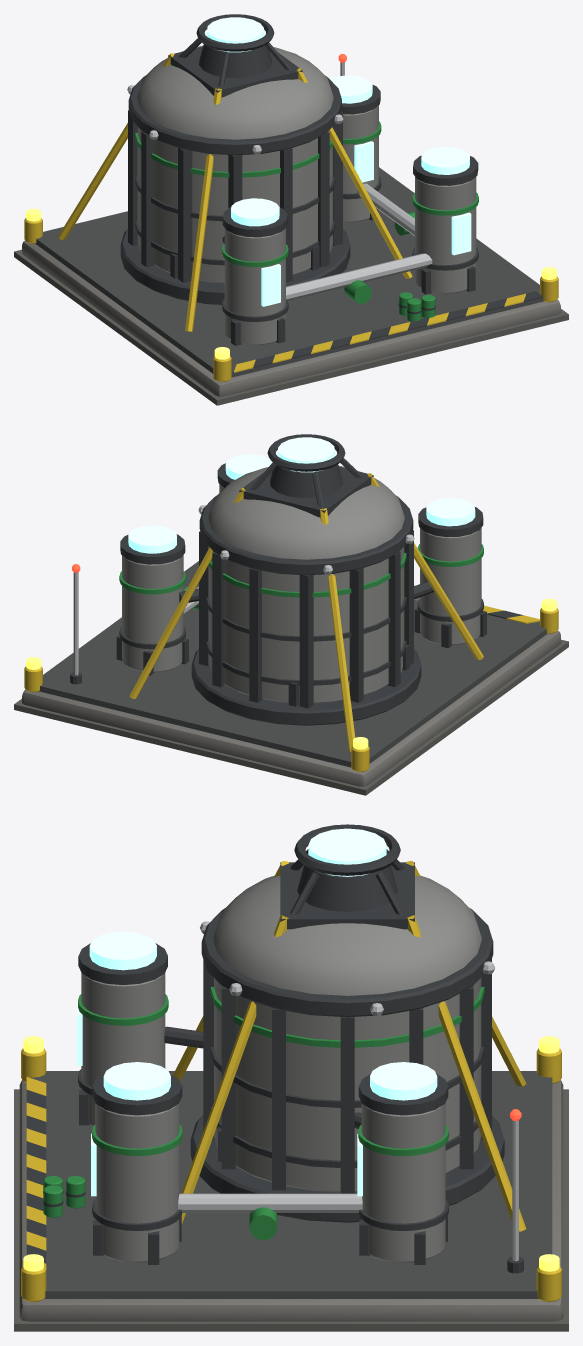
Rendered from extractor.glb.
3 views of the same model, one above another, from view 1: azimuth 30°, elevation 25°; view 2: azimuth 150°, elevation 25°; view 3: azimuth 270°, elevation 25° (orthographic). The views are drawn at different scales.
Visible parts, largest first — view 1: Extractor_Foundation, Extractor_Walls, Extractor_Frame, Extractor_Details; view 2: Extractor_Foundation, Extractor_Walls, Extractor_Frame, Extractor_Details; view 3: Extractor_Foundation, Extractor_Walls, Extractor_Frame, Extractor_Details.
Boxes of the visible parts, bbox=[...] form: Extractor_Foundation: bbox=[14, 167, 568, 405]; Extractor_Walls: bbox=[137, 45, 476, 345]; Extractor_Frame: bbox=[58, 46, 475, 345]; Extractor_Details: bbox=[127, 14, 478, 321]; Extractor_Foundation: bbox=[14, 561, 568, 795]; Extractor_Walls: bbox=[122, 465, 481, 703]; Extractor_Frame: bbox=[116, 466, 486, 751]; Extractor_Details: bbox=[70, 434, 483, 685]; Extractor_Foundation: bbox=[14, 1036, 568, 1331]; Extractor_Walls: bbox=[81, 875, 481, 1262]; Extractor_Frame: bbox=[79, 861, 526, 1264]; Extractor_Details: bbox=[43, 824, 523, 1273].
Bounding box in the file's own units: 1.98 × 1.36 × 1.98.
